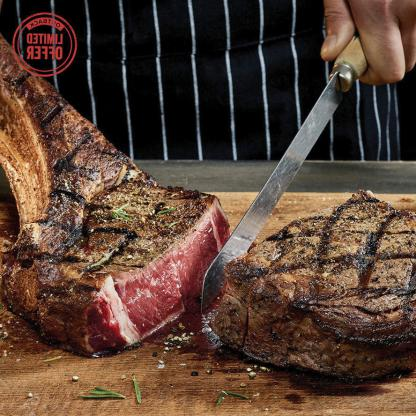Carne: (211, 195, 416, 377), (72, 190, 224, 359), (1, 132, 136, 304), (25, 180, 180, 327)
